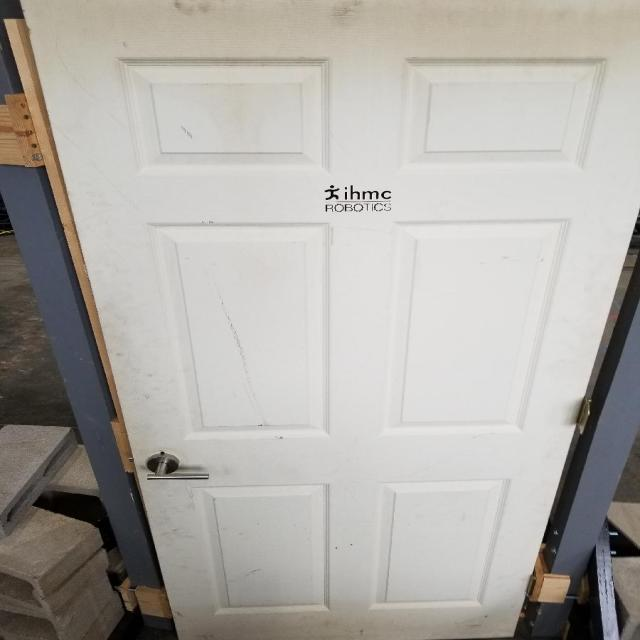door: (143, 450, 214, 484)
